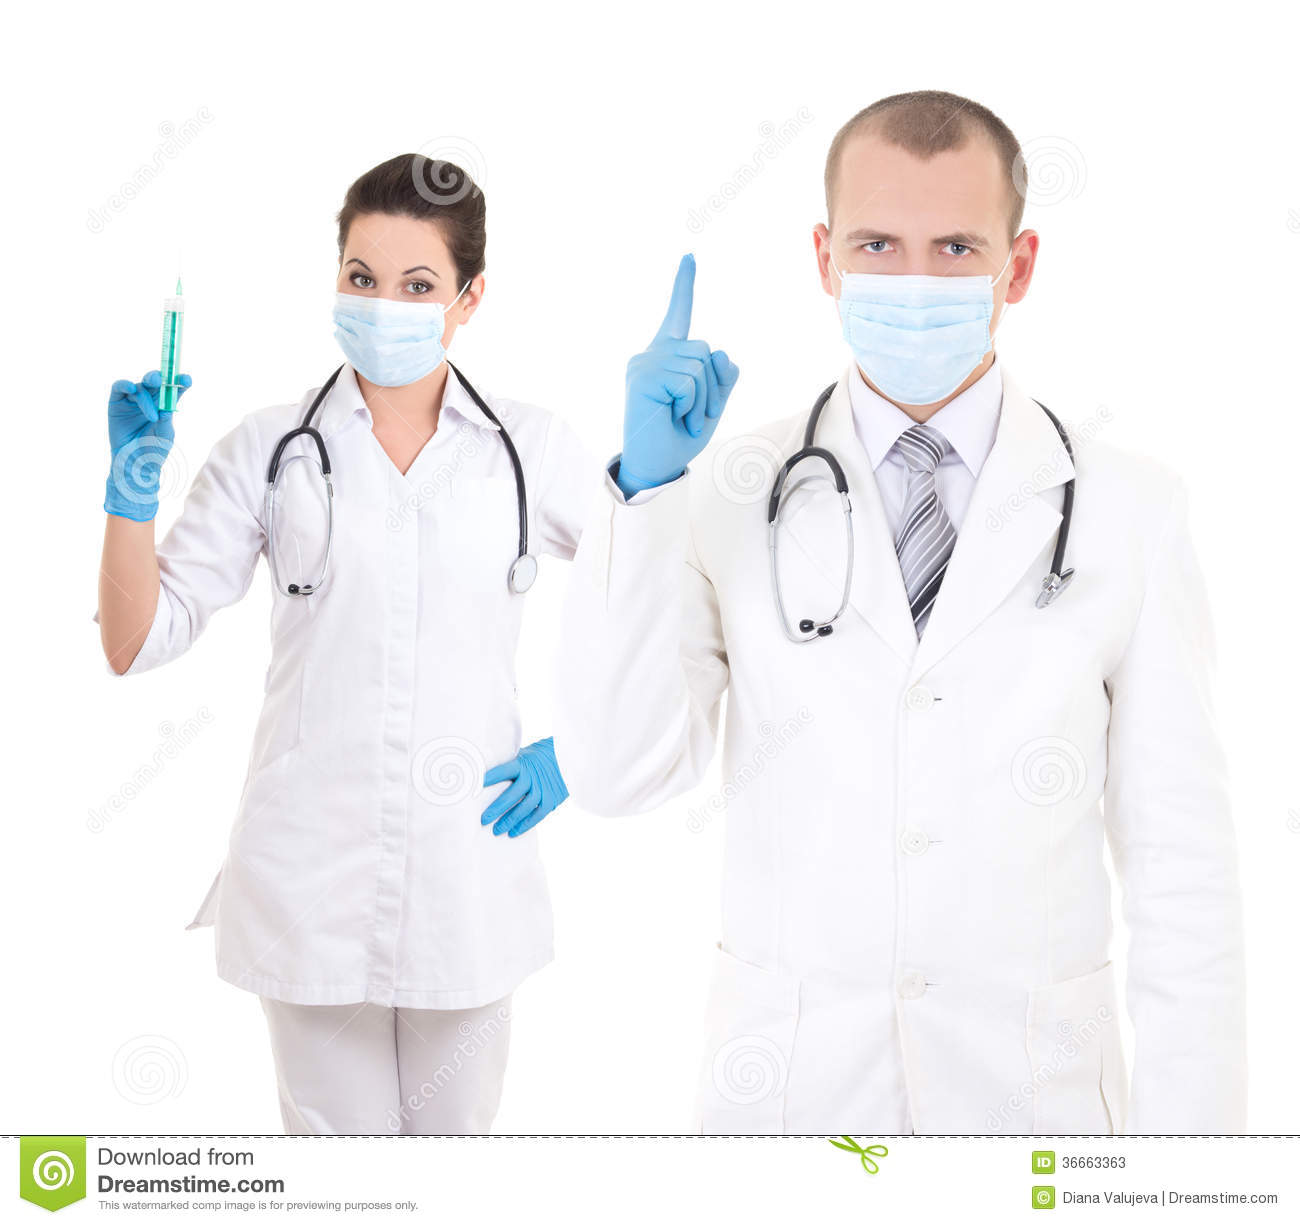mask: (833, 256, 993, 411), (333, 288, 454, 401)
